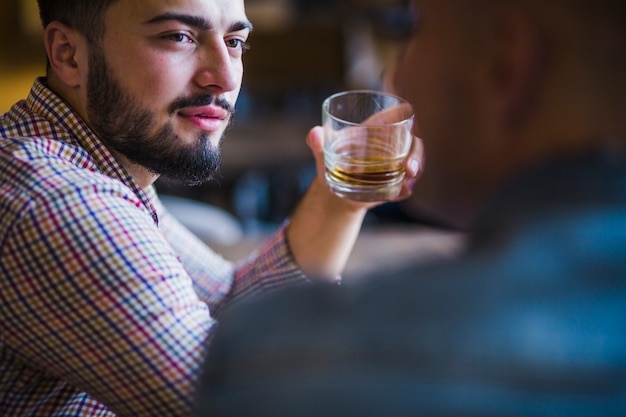alcohol: (319, 88, 415, 205)
